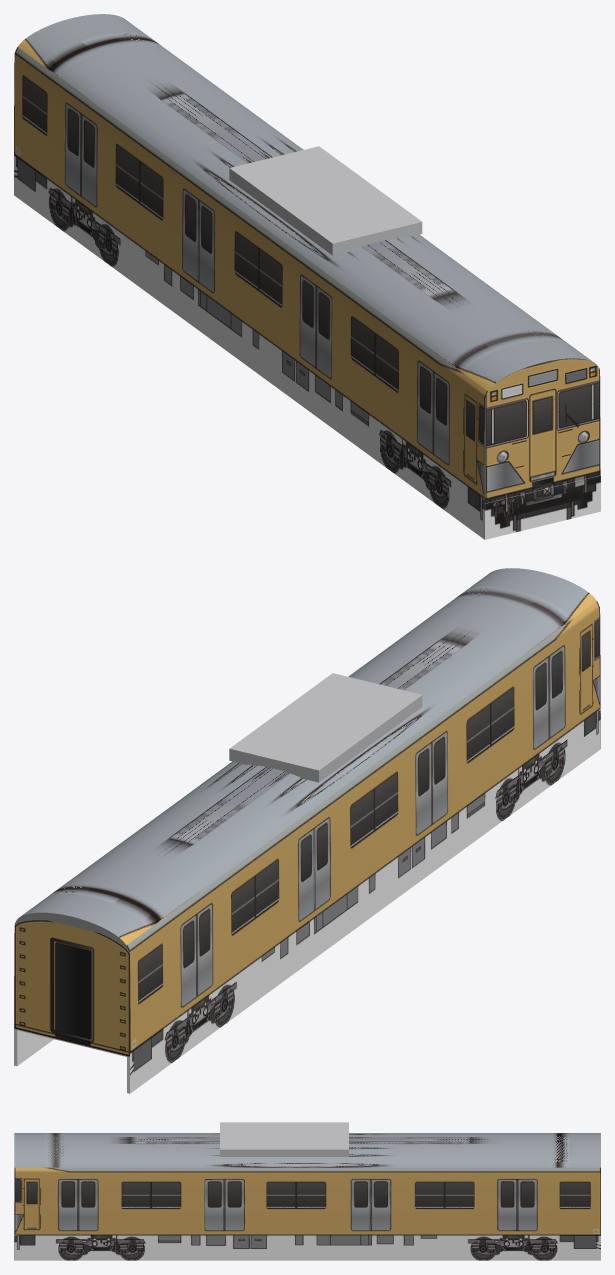
The model's file is car1.glb.
3 views of the same model, one above another, from view 1: azimuth 30°, elevation 25°; view 2: azimuth 150°, elevation 25°; view 3: azimuth 270°, elevation 25° (orthographic). The views are drawn at different scales.
Visible parts, largest first — view 1: car1.glb; view 2: car1.glb; view 3: car1.glb.
Boxes of the visible parts, x1=… form: car1.glb: x1=14, y1=14, x2=600, y2=539; car1.glb: x1=14, y1=568, x2=600, y2=1093; car1.glb: x1=14, y1=1122, x2=600, y2=1260.
Bounding box in the file's own units: 2.85 × 4.03 × 20.01.
Materials: 7 (5 with a texture image).
